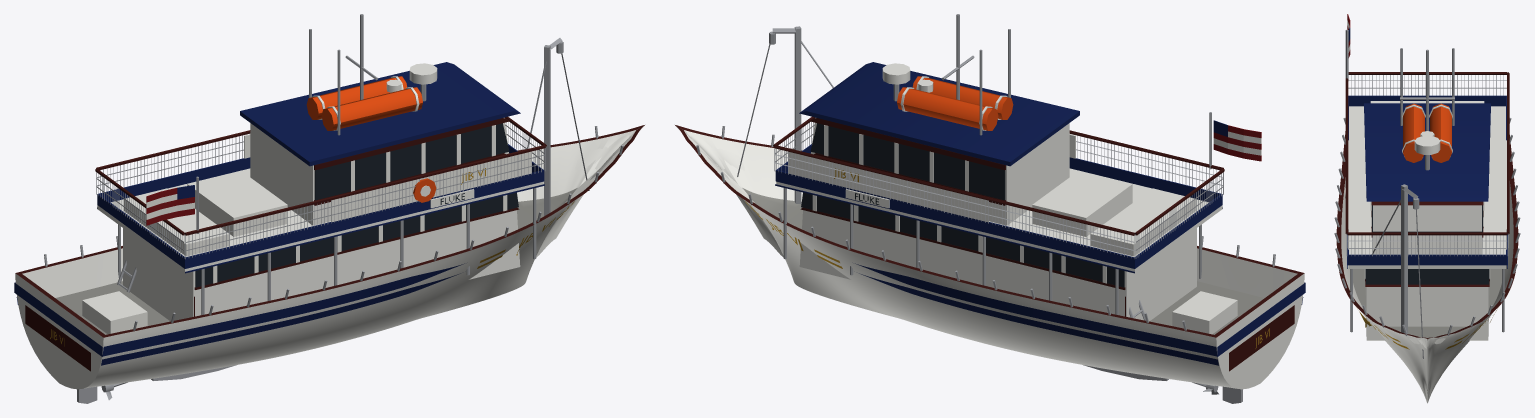
Rendered from jib_vi.obj.
3 views of the same model, side by side, from view 1: azimuth 30°, elevation 25°; view 2: azimuth 150°, elevation 25°; view 3: azimuth 270°, elevation 25° (orthographic). The views are drawn at different scales.
Parts seen in each view (by area): view 1: JIB_VI; view 2: JIB_VI; view 3: JIB_VI.
Boxes of the visible parts, bbox=[...] form: JIB_VI: bbox=[14, 14, 644, 403]; JIB_VI: bbox=[675, 14, 1305, 403]; JIB_VI: bbox=[1334, 14, 1520, 403].
Size of the model in its own units: 19.07 by 9.96 by 5.75.
